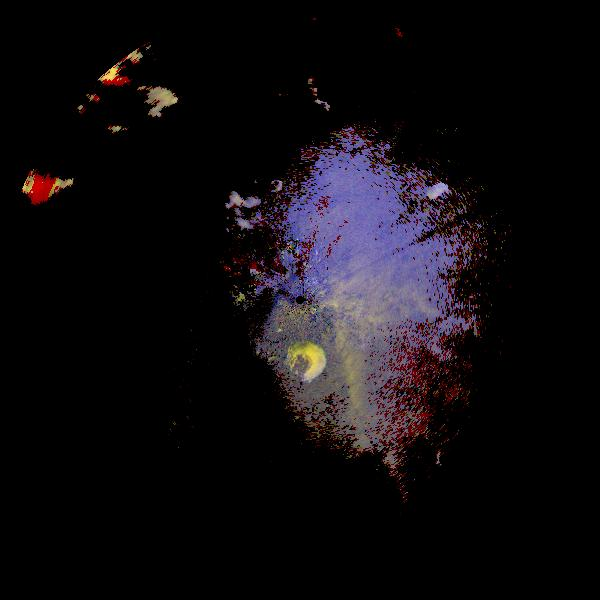roost: (277, 334, 334, 391), (415, 176, 472, 233), (430, 431, 481, 482), (265, 176, 286, 197)
